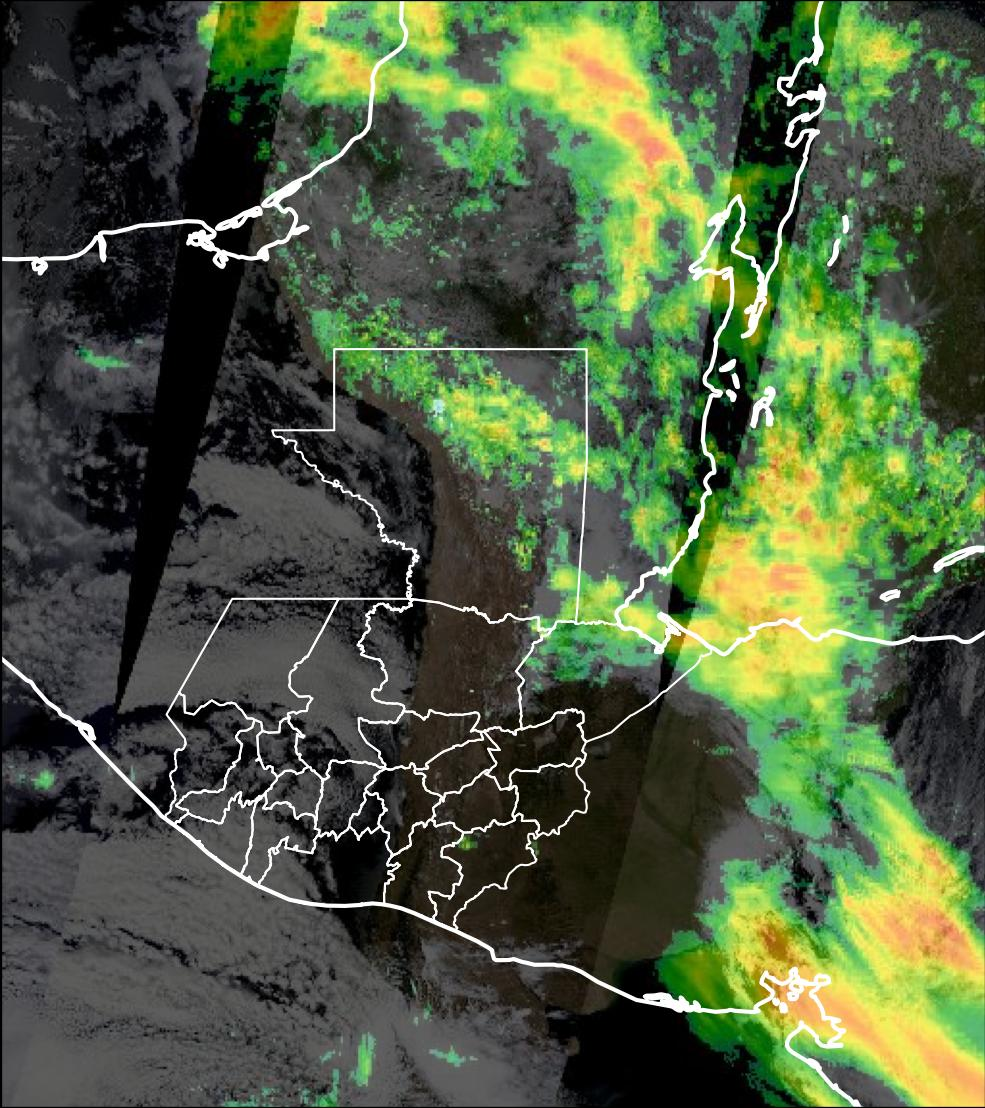precipitacion: (554, 44, 690, 196), (845, 873, 985, 990), (713, 526, 825, 612)
